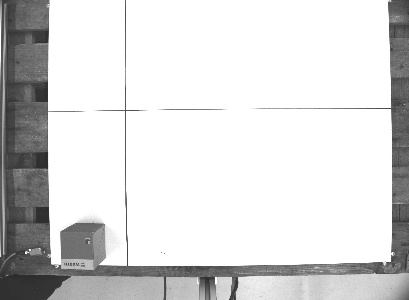b7: (57, 220, 107, 272)
